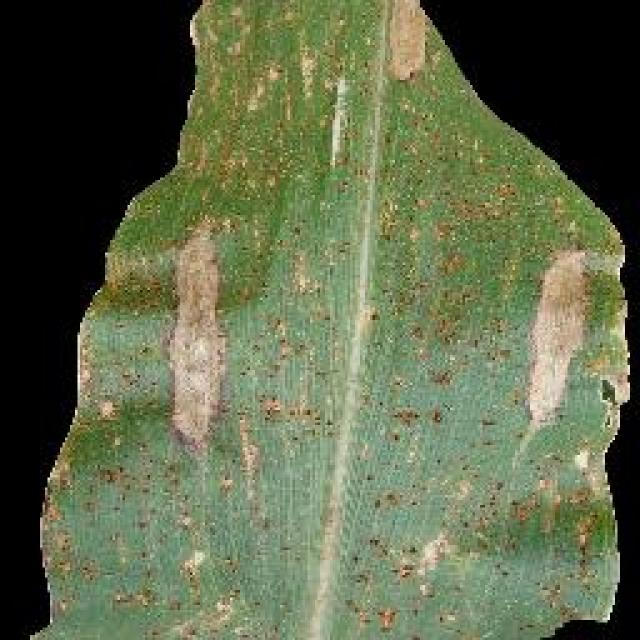Corn Common Rust: (155, 0, 538, 550)
